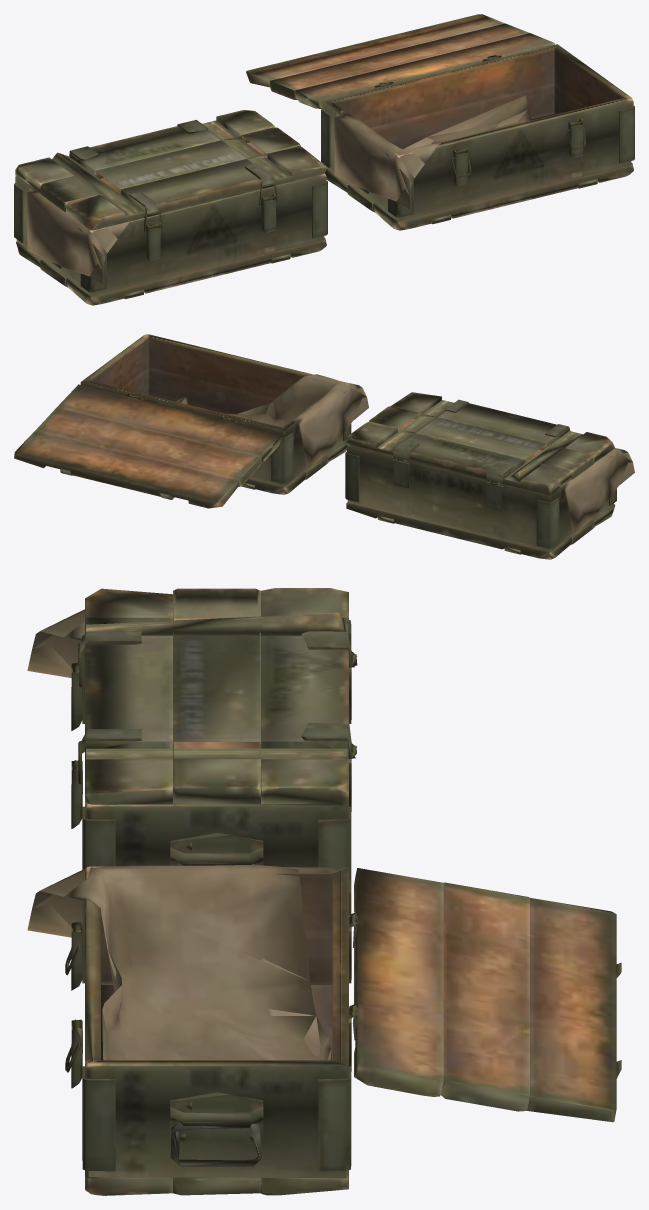
File: crateMilitary_lo.glb
The picture shows the model from 3 angles, top to bottom: view 1: azimuth 30°, elevation 25°; view 2: azimuth 150°, elevation 25°; view 3: azimuth 270°, elevation 25°; orthographic projection. The views are drawn at different scales.
Parts seen in each view (by area): view 1: old_military_crate_b, old_military_crate_lid_a, old_military_crate_a, old_military_crate_lid_b, old_military_crate_cloth_b, old_military_crate_cloth_a, old_military_crate_latch_a, old_military_crate_latch_b; view 2: old_military_crate_lid_b, old_military_crate_a, old_military_crate_lid_a, old_military_crate_b, old_military_crate_cloth_b, old_military_crate_cloth_a; view 3: old_military_crate_lid_a, old_military_crate_lid_b, old_military_crate_b, old_military_crate_cloth_b, old_military_crate_a, old_military_crate_cloth_a, old_military_crate_latch_a, old_military_crate_latch_b.
Boxes of the visible parts, x1,y1,x2,y2 form: old_military_crate_b: (321,44,634,230); old_military_crate_lid_a: (15,110,326,230); old_military_crate_a: (14,173,327,305); old_military_crate_lid_b: (246,14,554,108); old_military_crate_cloth_b: (334,95,532,209); old_military_crate_cloth_a: (27,188,129,284); old_military_crate_latch_a: (146,194,276,261); old_military_crate_latch_b: (453,119,583,186); old_military_crate_lid_b: (14,384,282,508); old_military_crate_a: (345,446,616,559); old_military_crate_lid_a: (346,392,614,495); old_military_crate_b: (80,334,351,494); old_military_crate_cloth_b: (175,374,368,470); old_military_crate_cloth_a: (563,448,634,535); old_military_crate_lid_a: (79,588,356,804); old_military_crate_lid_b: (349,868,621,1122); old_military_crate_b: (82,866,356,1195); old_military_crate_cloth_b: (27,865,331,1060); old_military_crate_a: (82,620,357,882); old_military_crate_cloth_a: (27,609,84,677); old_military_crate_latch_a: (71,662,82,828); old_military_crate_latch_b: (71,921,82,1088).
Bounding box in the file's own units: 1.81 × 0.2891 × 0.9677.
1 material, 1 textured.
